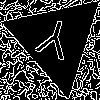Y: (31, 15, 75, 70)
